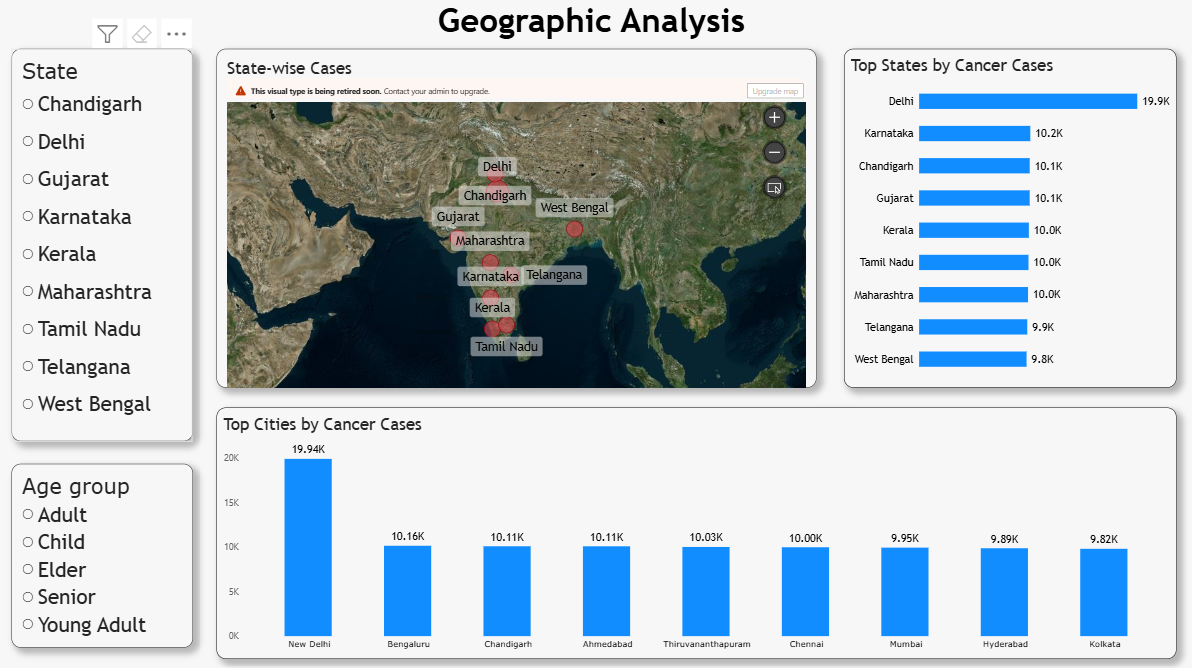

What the dashboard file says about the page in this screenshot:
{"tool":"powerbi","page":{"name":"Geographic Analysis","canvas":[1920,1080],"ordinal":2},"visuals":[{"type":"textbox","box":[710,0,500,78],"z":0},{"type":"map","title":"State-wise Cases","fields":{"Category":["cancer_patients.State"],"Size":["CountNonNull(cancer_patients.Patient_ID)"]},"box":[356,78,960,542],"z":1000},{"type":"listSlicer","fields":{"Values":["cancer_patients.State"]},"box":[28,78,290,628],"z":2000},{"type":"barChart","title":"Top States by Cancer Cases","fields":{"Category":["cancer_patients.State"],"Y":["CountNonNull(cancer_patients.Patient_ID)"]},"box":[1360,78,532,542],"z":3000},{"type":"columnChart","title":"Top Cities by Cancer Cases","fields":{"Y":["CountNonNull(cancer_patients.Patient_ID)"],"Category":["cancer_patients.City"]},"box":[356,652,1536,402],"z":4000},{"type":"listSlicer","fields":{"Values":["cancer_patients.Age_group"]},"box":[28,742,290,294],"z":5000}]}

Visuals, with their boxes in screenshot pixels (x1, y1, x2, y2), scaled from the page's 1920x1080 canvas onto the 1192x668 screenshot:
textbox: x1=441 y1=0 x2=751 y2=48
"State-wise Cases" map: x1=221 y1=48 x2=817 y2=383
listSlicer - cancer_patients.State: x1=17 y1=48 x2=197 y2=437
"Top States by Cancer Cases" barChart: x1=844 y1=48 x2=1175 y2=383
"Top Cities by Cancer Cases" columnChart: x1=221 y1=403 x2=1175 y2=652
listSlicer - cancer_patients.Age_group: x1=17 y1=459 x2=197 y2=641
